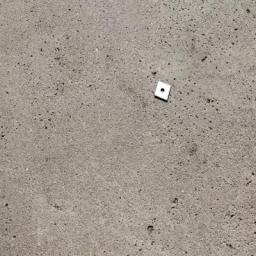FOD: (149, 79, 176, 107)
